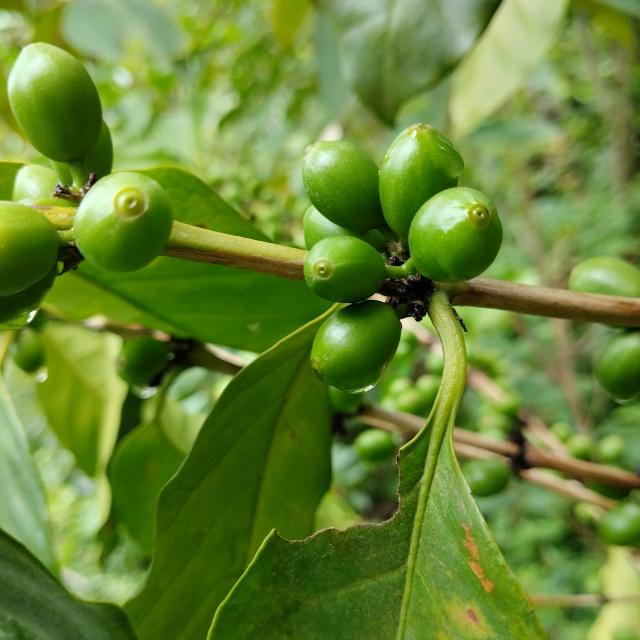green: (6, 41, 102, 163), (379, 123, 465, 242), (72, 171, 172, 272), (409, 187, 503, 282), (311, 300, 402, 393), (302, 140, 385, 231), (304, 235, 388, 303), (0, 200, 59, 296), (596, 332, 640, 401), (570, 256, 640, 298), (11, 164, 73, 206), (303, 205, 355, 250), (83, 120, 112, 178), (50, 160, 72, 185)
